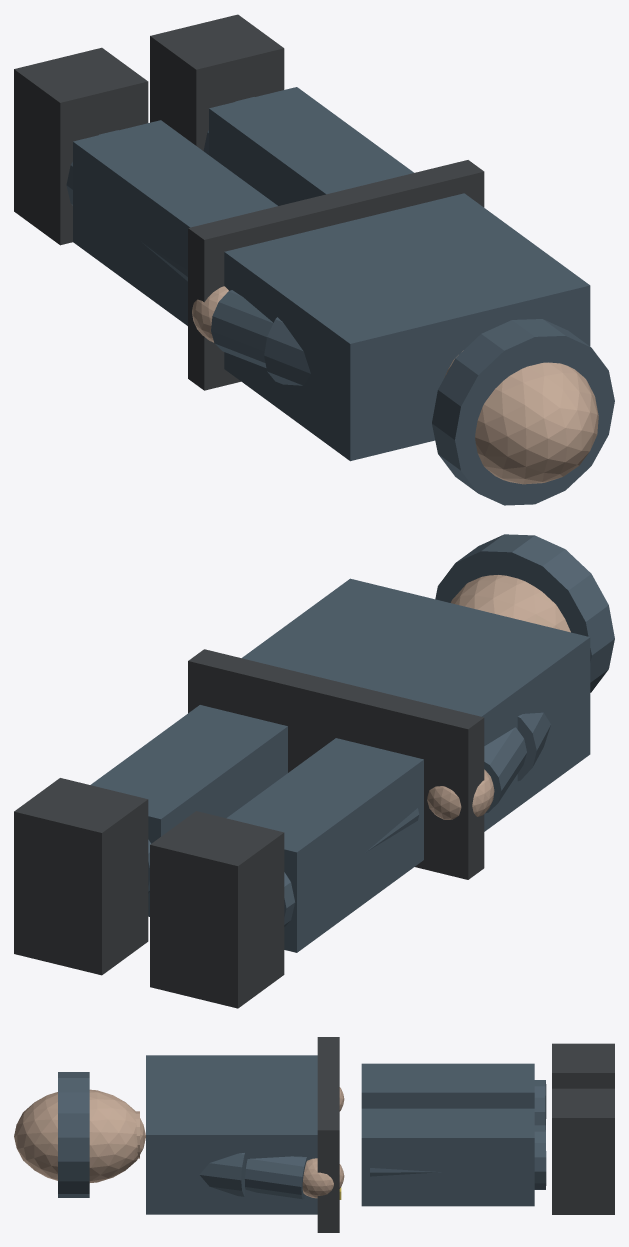
Rendered from Femme_Ceremonie_SDIS37_V2.glb.
The picture shows the model from 3 angles, top to bottom: view 1: azimuth 30°, elevation 25°; view 2: azimuth 150°, elevation 25°; view 3: azimuth 270°, elevation 25°; orthographic projection. The views are drawn at different scales.
Visible parts, largest first — view 1: 06_Veste_ceremonie, 02_Pantalon_gauche, 00_Botte_gauche, 05_Pantalon_droite, 09_Casquette, 18_Ceinture, 11_Tete, 03_Botte_droite, 13_Avant_bras_gauche, 12_Bras_superieur_gauche, 14_Main_gauche; view 2: 06_Veste_ceremonie, 18_Ceinture, 02_Pantalon_gauche, 00_Botte_gauche, 03_Botte_droite, 05_Pantalon_droite, 09_Casquette, 11_Tete, 13_Avant_bras_gauche, 14_Main_gauche, 12_Bras_superieur_gauche, 01_Jambe_gauche; view 3: 06_Veste_ceremonie, 05_Pantalon_droite, 02_Pantalon_gauche, 03_Botte_droite, 11_Tete, 18_Ceinture, 09_Casquette, 00_Botte_gauche, 16_Avant_bras_droite, 15_Bras_superieur_droite, 04_Jambe_droite, 17_Main_droite (+1 smaller).
Boxes of the visible parts, left/top/right/bottom form: 06_Veste_ceremonie: left=224, top=193, right=590, bottom=461; 02_Pantalon_gauche: left=73, top=120, right=277, bottom=325; 00_Botte_gauche: left=14, top=47, right=148, bottom=245; 05_Pantalon_droite: left=209, top=87, right=413, bottom=205; 09_Casquette: left=432, top=319, right=614, bottom=505; 18_Ceinture: left=188, top=160, right=484, bottom=390; 11_Tete: left=444, top=362, right=598, bottom=484; 03_Botte_droite: left=150, top=14, right=284, bottom=150; 13_Avant_bras_gauche: left=211, top=290, right=273, bottom=367; 12_Bras_superieur_gauche: left=264, top=317, right=310, bottom=385; 14_Main_gauche: left=192, top=286, right=228, bottom=342; 06_Veste_ceremonie: left=242, top=578, right=590, bottom=831; 18_Ceinture: left=188, top=649, right=484, bottom=879; 02_Pantalon_gauche: left=226, top=738, right=423, bottom=952; 00_Botte_gauche: left=150, top=811, right=284, bottom=1008; 03_Botte_droite: left=14, top=778, right=148, bottom=975; 05_Pantalon_droite: left=90, top=705, right=287, bottom=916; 09_Casquette: left=435, top=534, right=614, bottom=692; 11_Tete: left=450, top=575, right=570, bottom=632; 13_Avant_bras_gauche: left=484, top=727, right=526, bottom=813; 14_Main_gauche: left=427, top=769, right=494, bottom=819; 12_Bras_superieur_gauche: left=517, top=712, right=550, bottom=781; 01_Jambe_gauche: left=284, top=808, right=419, bottom=926; 06_Veste_ceremonie: left=146, top=1055, right=317, bottom=1214; 05_Pantalon_droite: left=361, top=1108, right=534, bottom=1206; 02_Pantalon_gauche: left=361, top=1063, right=534, bottom=1108; 03_Botte_droite: left=552, top=1088, right=614, bottom=1214; 11_Tete: left=14, top=1089, right=145, bottom=1182; 18_Ceinture: left=317, top=1037, right=339, bottom=1232; 09_Casquette: left=58, top=1072, right=89, bottom=1197; 00_Botte_gauche: left=552, top=1043, right=614, bottom=1088; 16_Avant_bras_droite: left=244, top=1156, right=307, bottom=1199; 15_Bras_superieur_droite: left=199, top=1153, right=244, bottom=1196; 04_Jambe_droite: left=370, top=1125, right=546, bottom=1189; 17_Main_droite: left=302, top=1158, right=344, bottom=1198.
Bounding box in the file's own units: 0.73 × 0.405 × 1.91.
